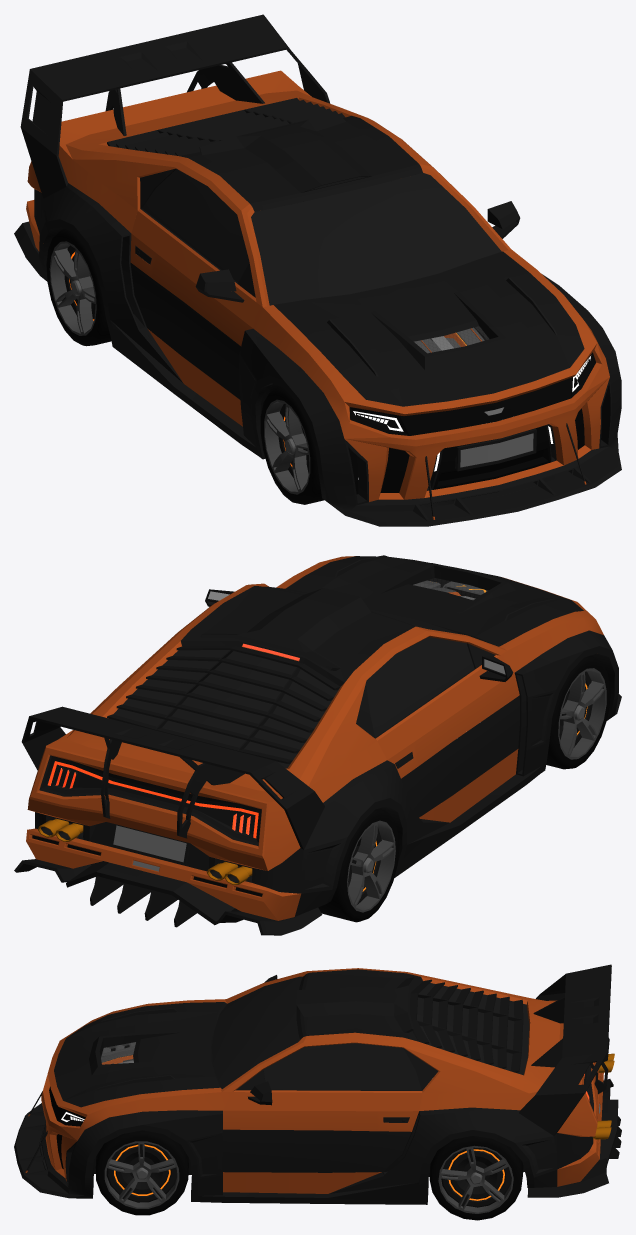
Rendered from racercamaro.glb.
3 renders of one model, top to bottom at view 1: azimuth 30°, elevation 25°; view 2: azimuth 150°, elevation 25°; view 3: azimuth 270°, elevation 25°, orthographic. The views are drawn at different scales.
Parts seen in each view (by area): view 1: Body_0, Hood_2, Right door_3, Left door_1; view 2: Body_0, Right door_3, Hood_2; view 3: Body_0, Left door_1, Hood_2.
Boxes of the visible parts, left/top/right/bottom form: Body_0: left=14, top=14, right=621, bottom=526; Hood_2: left=274, top=251, right=584, bottom=406; Right door_3: left=130, top=169, right=256, bottom=399; Left door_1: left=403, top=149, right=520, bottom=238; Body_0: left=14, top=556, right=621, bottom=935; Right door_3: left=366, top=637, right=519, bottom=817; Hood_2: left=285, top=555, right=583, bottom=646; Body_0: left=14, top=964, right=621, bottom=1220; Left door_1: left=223, top=1043, right=422, bottom=1172; Hood_2: left=54, top=1002, right=226, bottom=1107.
Size of the model in its own units: 0.4955 by 0.3259 by 1.06.
